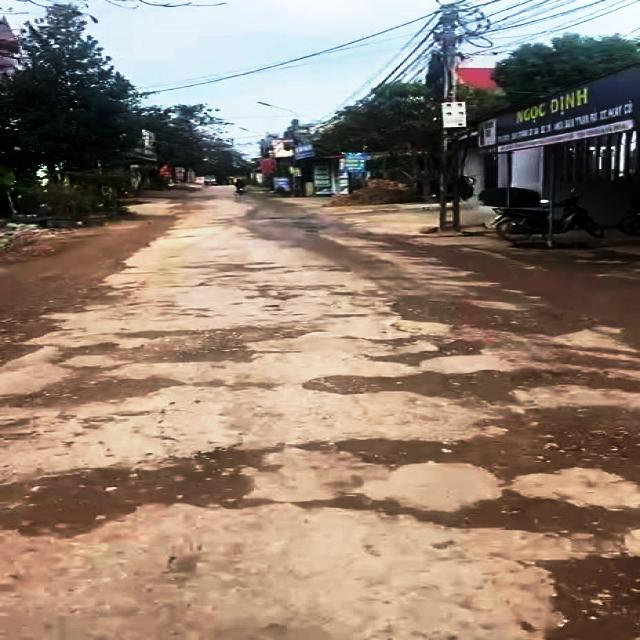pothole: (294, 399, 640, 492), (0, 444, 273, 536), (281, 487, 640, 539), (0, 323, 326, 368), (289, 366, 640, 400), (384, 293, 633, 336), (529, 545, 640, 640), (0, 372, 188, 420), (354, 332, 487, 371), (39, 284, 117, 314), (189, 262, 276, 275)
